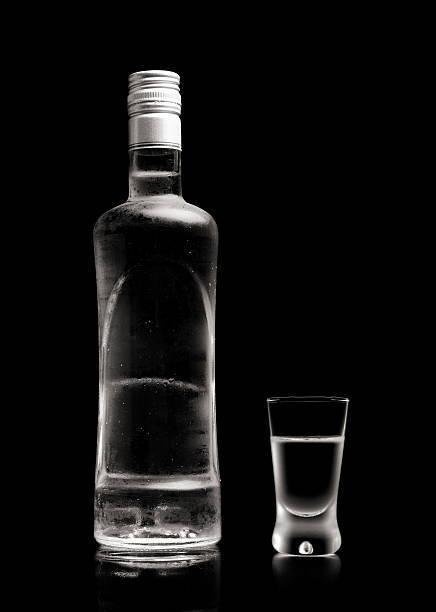bottle-glass: (89, 65, 225, 563)
glass-normal: (265, 393, 351, 559)
